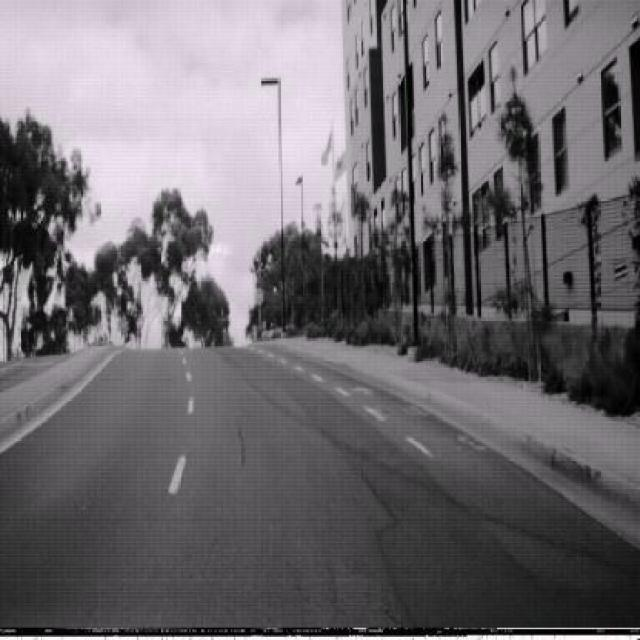stop: (254, 286, 263, 306), (119, 316, 128, 332)
